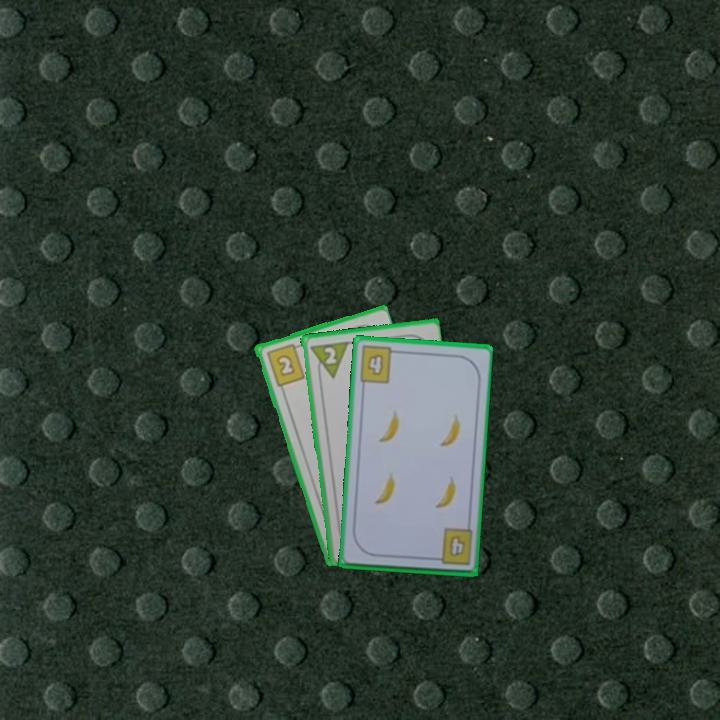2b: (263, 340, 307, 389)
2p: (306, 338, 350, 382)
4b: (356, 342, 401, 386), (429, 525, 475, 568)
